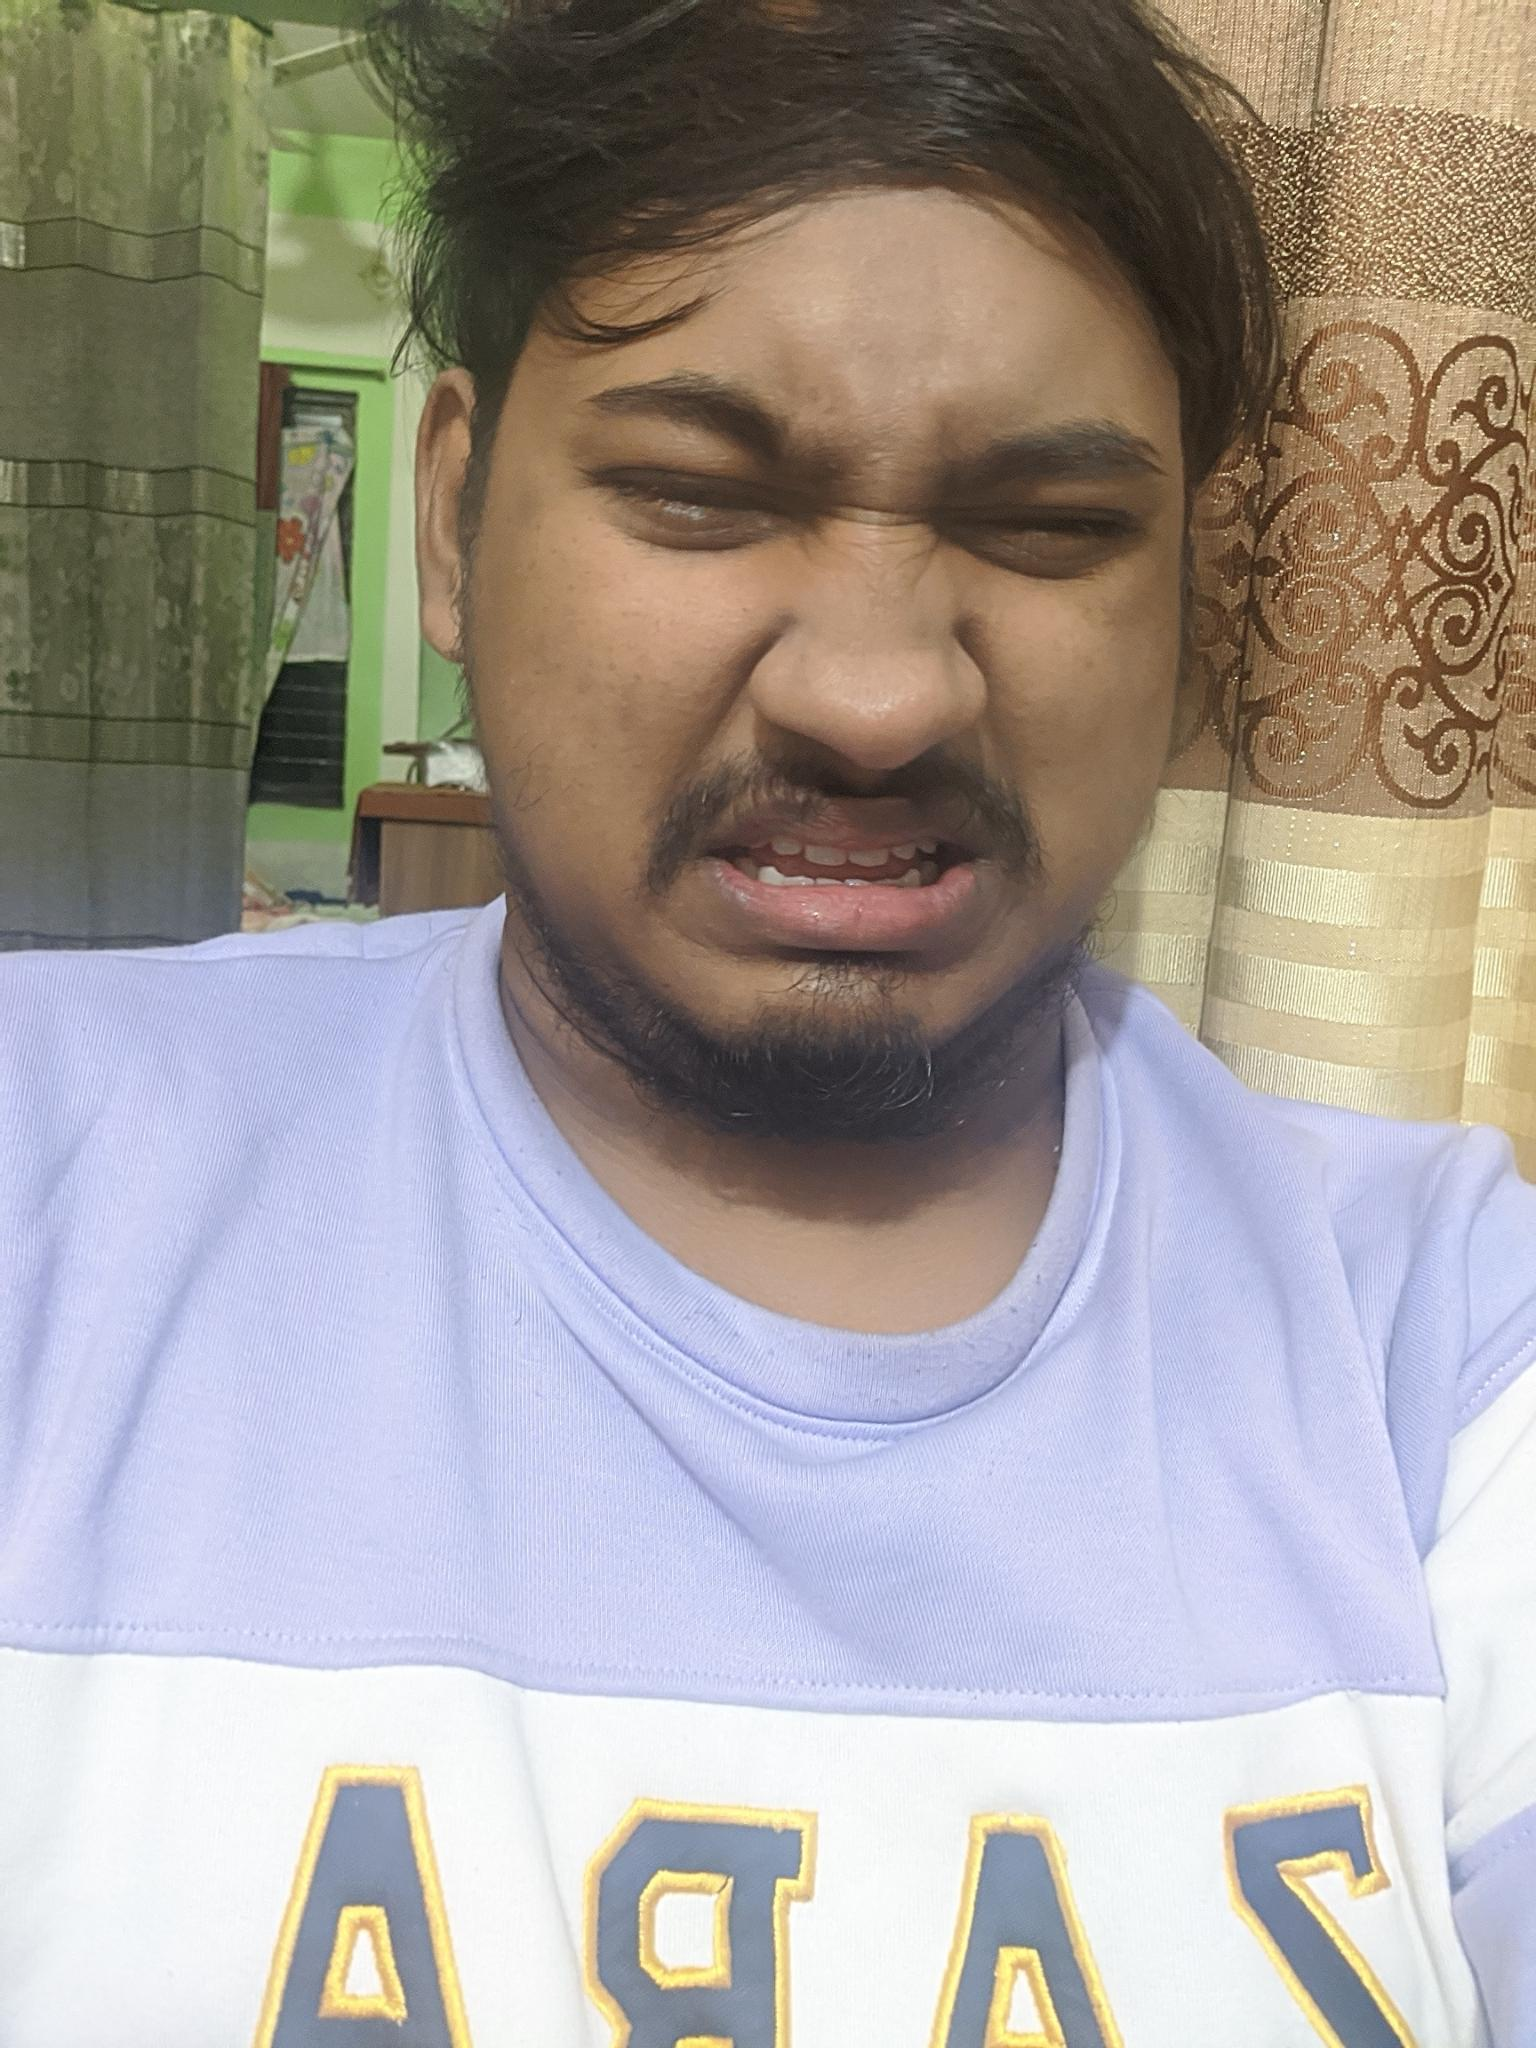Disgust: (550, 261, 1199, 1130)
